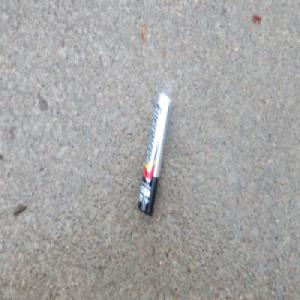Battery: (136, 90, 171, 216)
